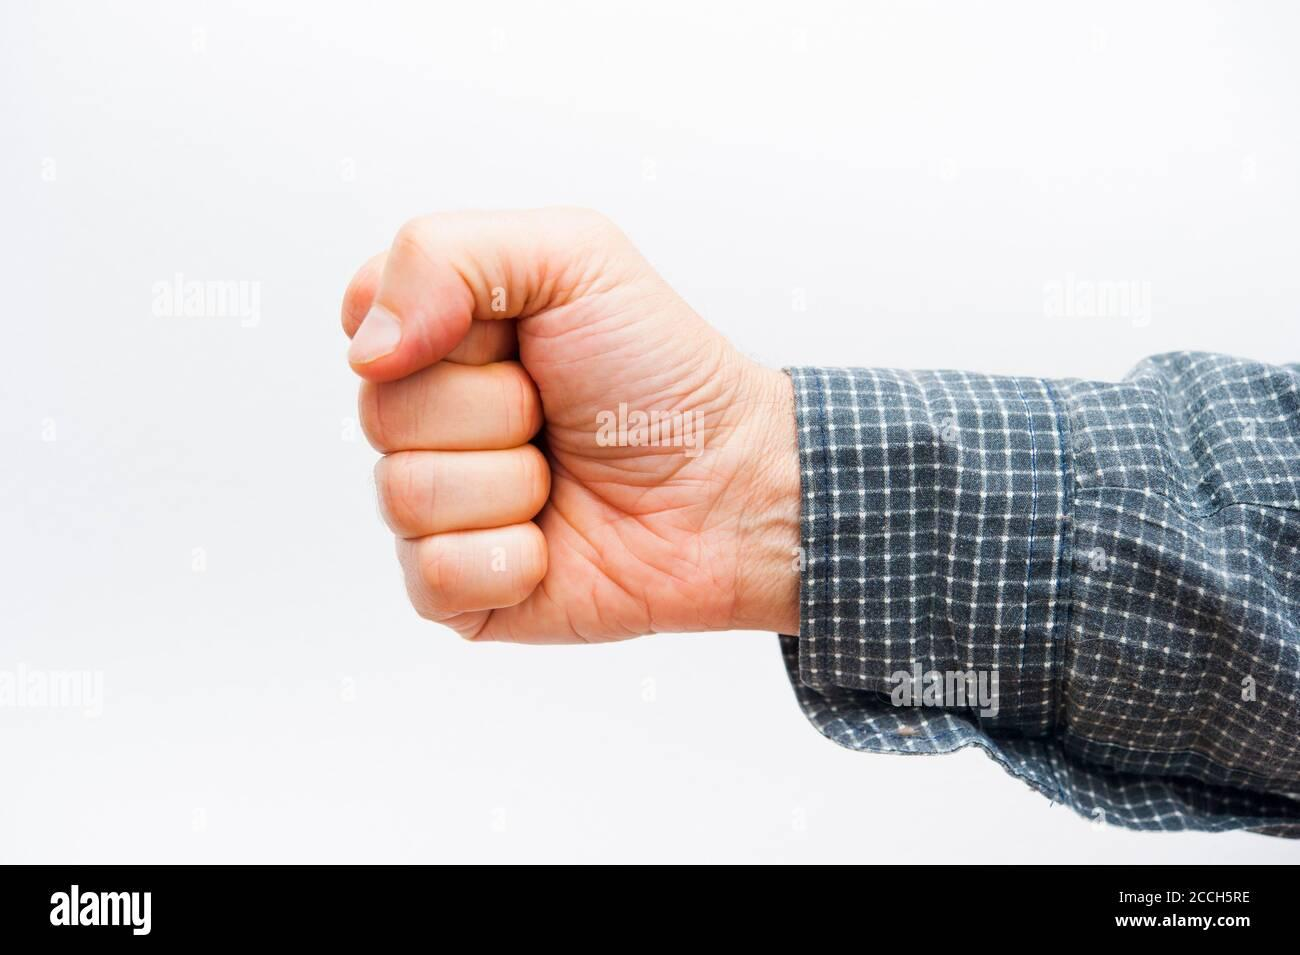rock: (323, 165, 759, 685)
